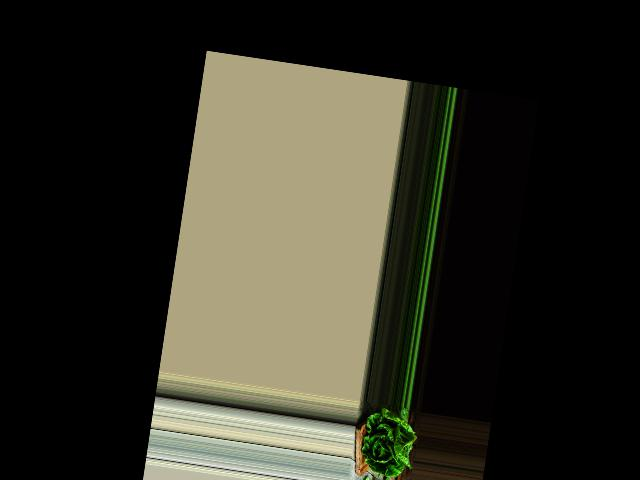lettuce: (356, 404, 418, 476)
